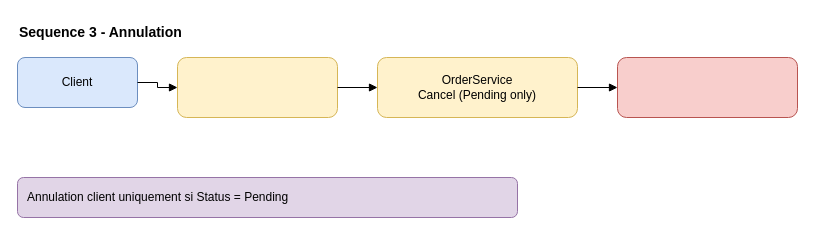
Some shapes in this 815 by 235 pixel diagram are drawn without their labels. The centre of each missing label's shape, as x and y in pixels:
"MeController POST cancel" goes at pixel 257 87.
"PostgreSQL restock + Cancelled" goes at pixel 707 87.
